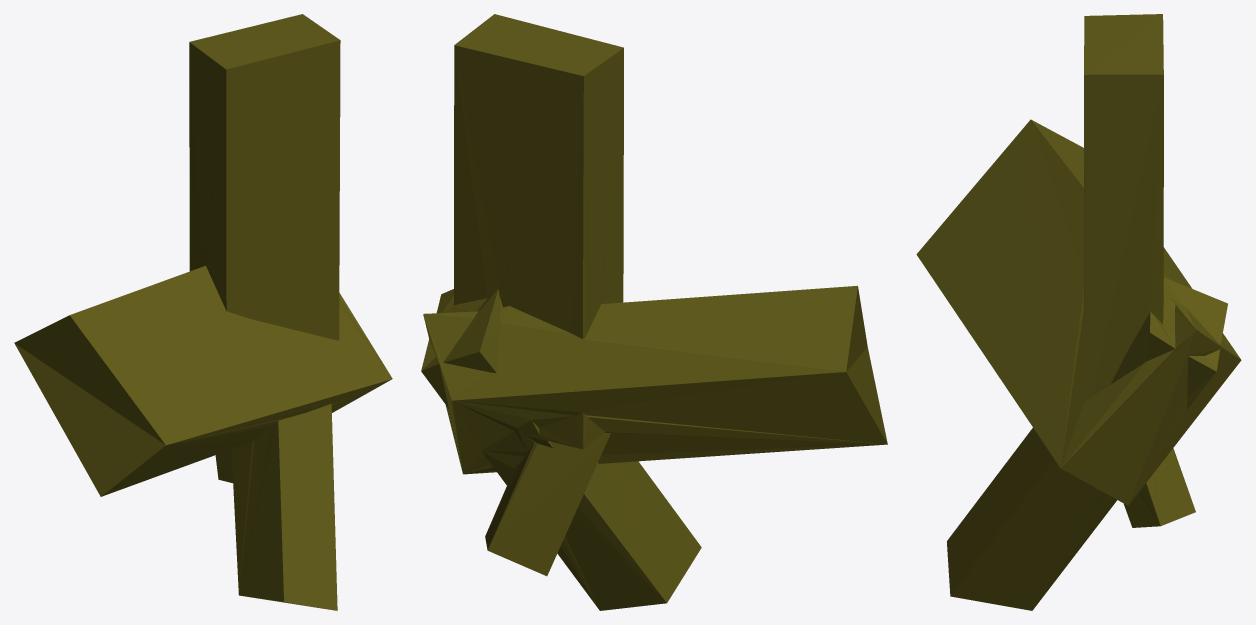
3 renders of one model, left to right at view 1: azimuth 30°, elevation 25°; view 2: azimuth 150°, elevation 25°; view 3: azimuth 270°, elevation 25°, orthographic. The views are drawn at different scales.
Parts seen in each view (by area): view 1: 554_Cube.2234; view 2: 554_Cube.2234; view 3: 554_Cube.2234.
Boxes of the visible parts, left/top/right/bottom form: 554_Cube.2234: left=14, top=14, right=392, bottom=610; 554_Cube.2234: left=421, top=14, right=887, bottom=610; 554_Cube.2234: left=916, top=14, right=1241, bottom=610.
Size of the model in its own units: 13.8 by 19.29 by 9.92.
